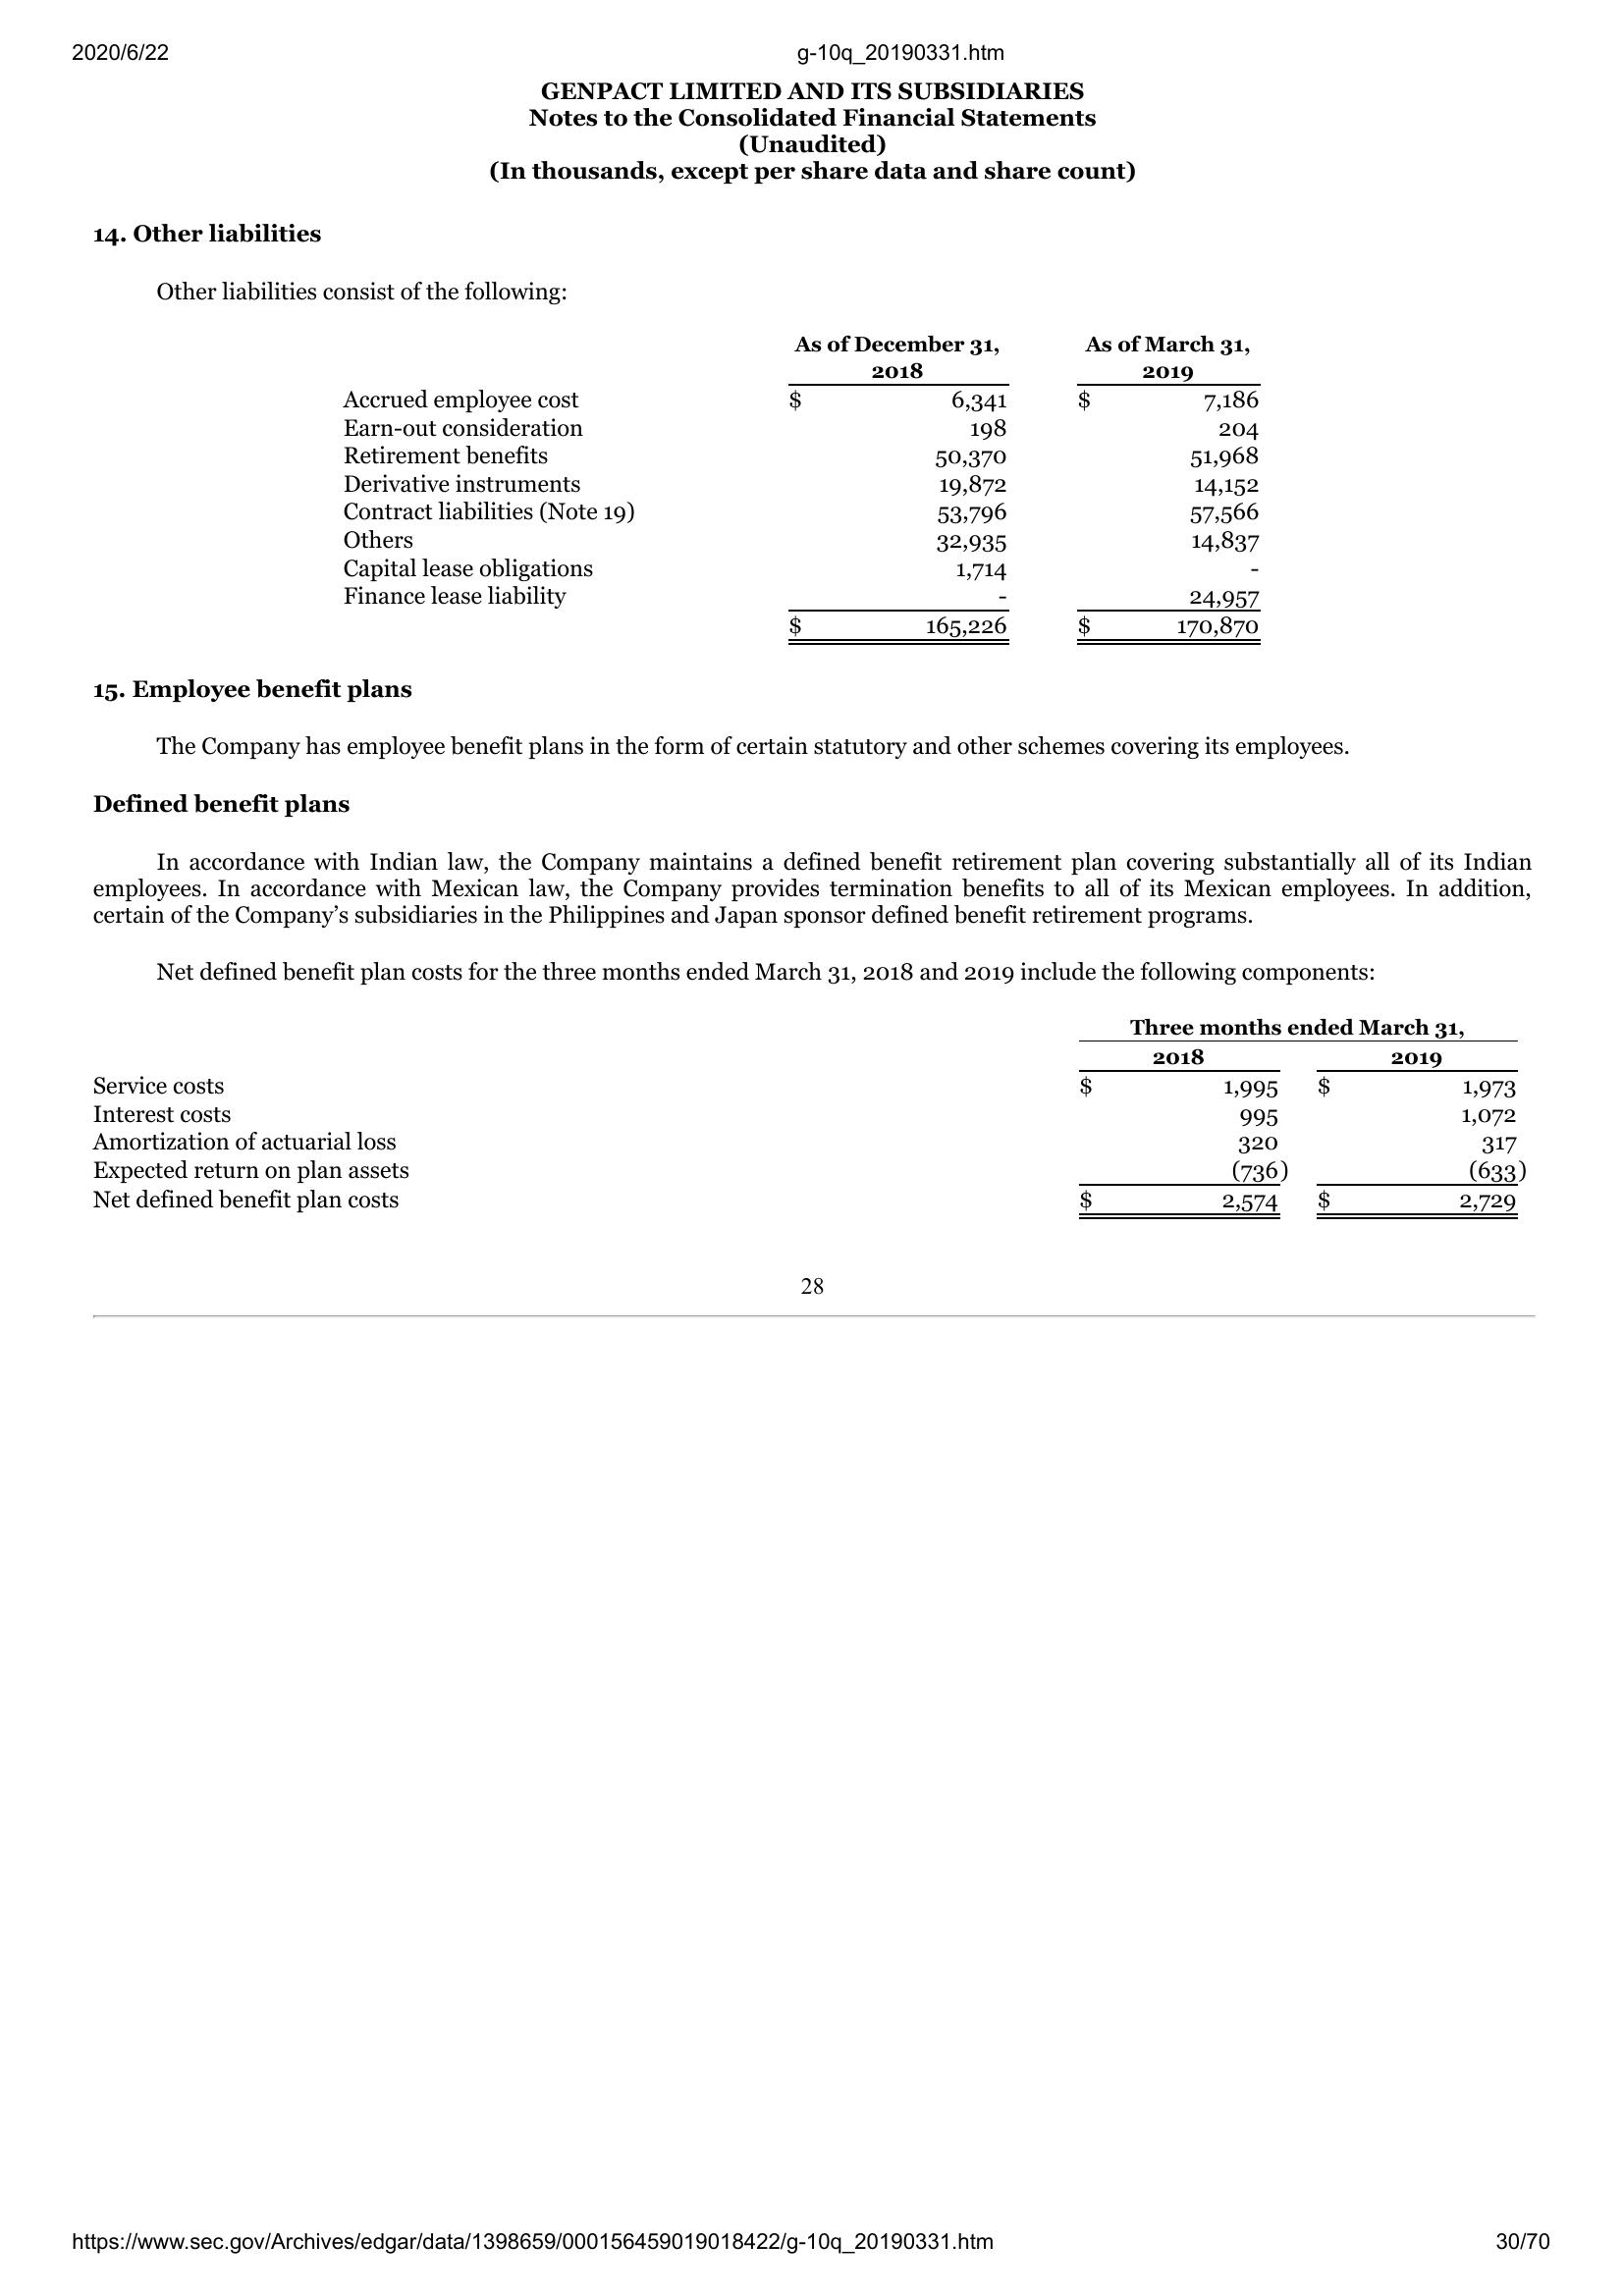table: (88, 1008, 1528, 1225), (334, 321, 1272, 648)
